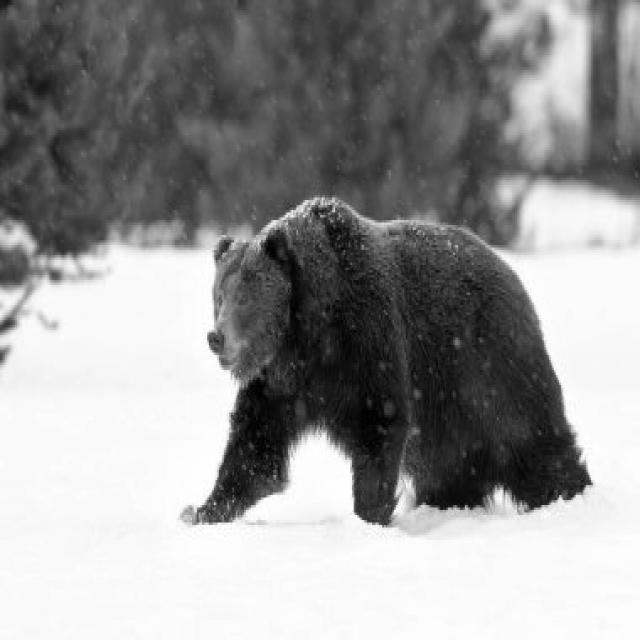Animal: (184, 203, 582, 523)
